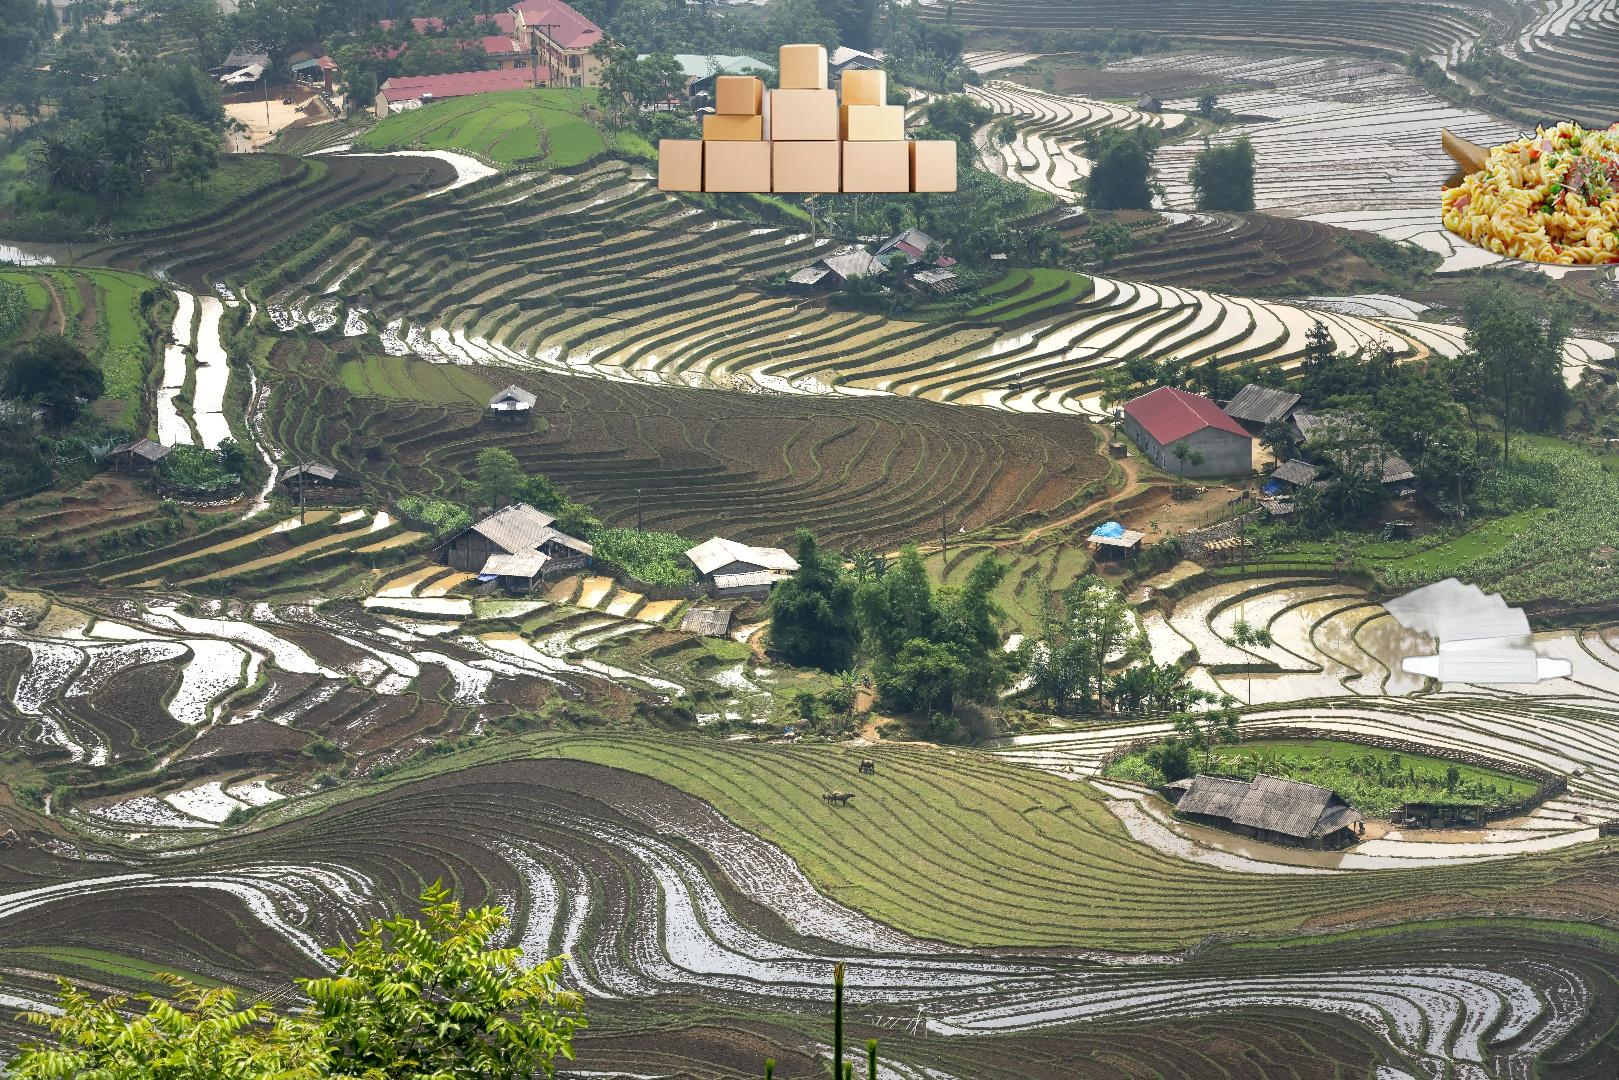biological: (1442, 116, 1619, 270)
trash: (1375, 574, 1576, 692)
trashbox-cardboard: (653, 40, 961, 198)
